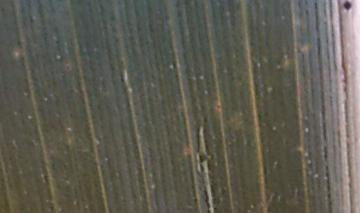tarspot: (343, 1, 352, 10), (120, 75, 125, 83)
